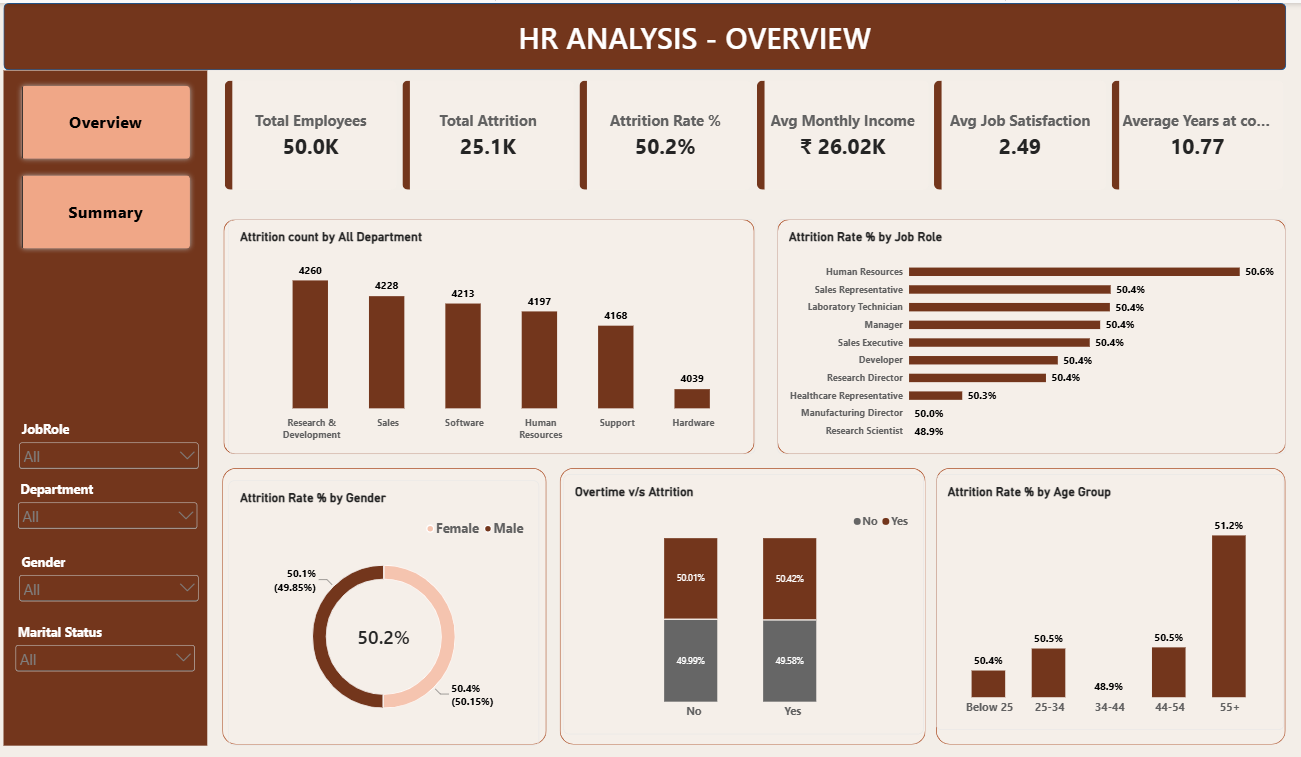

This screenshot's page, from the dashboard's own definition file:
{"tool":"powerbi","page":{"name":"Overview","canvas":[1920,1100],"ordinal":0},"visuals":[{"type":"cardVisual","fields":{"Data":["Table1.Total Employees","Table1.Total attrition","Table1.Attrition Rate %","Table2.Average Monthly income","Table1.Average job satisfaction","Table2.Average Years at company"]},"box":[347.2,113.2,1544.1,159.2],"z":0},{"type":"shape","box":[26,97.4,296.5,982.5],"z":1000},{"type":"shape","box":[24.9,0,1866.3,97.8],"z":2000},{"type":"textbox","box":[730.8,19.2,600.4,57.5],"z":3000},{"type":"shape","box":[346.3,313.8,772.6,341.9],"z":4000},{"type":"clusteredColumnChart","title":"Attrition count by All  Department","fields":{"Category":["Table1.Department"],"Y":["Table1.Total attrition"]},"box":[352.8,313.8,766.1,341.9],"z":5000},{"type":"shape","box":[1151.3,313.8,740.1,341.9],"z":6000},{"type":"clusteredBarChart","title":"Attrition Rate % by Job Role","fields":{"Category":["Table1.JobRole"],"Y":["Table1.Attrition Rate %"]},"box":[1151.3,313.8,740.1,341.9],"z":7000},{"type":"shape","box":[344.1,677.4,471.8,402.5],"z":8000},{"type":"donutChart","fields":{"Category":["Table1.Gender"],"Y":["Table1.Attrition Rate %"]},"box":[352.8,694.7,452.3,385.2],"z":9000},{"type":"shape","box":[835.4,677.4,532.4,402.5],"z":10000},{"type":"hundredPercentStackedColumnChart","title":"Overtime v/s Attrition","fields":{"Category":["Table2.OverTime"],"Series":["Table1.Attrition"],"Y":["CountNonNull(Table1.EmployeeCount)"]},"box":[839.7,686,523.7,378.7],"z":11000},{"type":"shape","box":[1382.9,677.4,508.6,402.5],"z":12000},{"type":"clusteredColumnChart","fields":{"Category":["Table1.Age Group"],"Y":["Table1.Attrition Rate %"]},"box":[1382.9,686,506.4,372.2],"z":13000},{"type":"slicer","fields":{"Values":["Table1.Department"]},"box":[41.1,694.7,270.5,77.9],"z":14000},{"type":"slicer","fields":{"Values":["Table1.Gender"]},"box":[43.3,800.7,270.5,77.9],"z":15000},{"type":"slicer","fields":{"Values":["Table1.MaritalStatus"]},"box":[39,902.4,270.5,77.9],"z":16000},{"type":"pageNavigator","box":[43.3,112.5,261.9,253.2],"z":17000},{"type":"slicer","fields":{"Values":["Table1.JobRole"]},"box":[43.7,607.5,270.5,77.9],"z":17001}]}

Visuals, with their boxes in screenshot pixels (x1, y1, x2, y2), scaled from the page's 1920x1100 canvas onto the 1301x757 screenshot:
cardVisual - Table1.Total Employees x Table1.Total attrition: select_region(235, 78, 1282, 187)
shape: select_region(18, 67, 219, 743)
shape: select_region(17, 0, 1281, 67)
textbox: select_region(495, 13, 902, 53)
shape: select_region(235, 216, 758, 451)
"Attrition count by All  Department" clusteredColumnChart: select_region(239, 216, 758, 451)
shape: select_region(780, 216, 1282, 451)
"Attrition Rate % by Job Role" clusteredBarChart: select_region(780, 216, 1282, 451)
shape: select_region(233, 466, 553, 743)
donutChart - Table1.Gender x Table1.Attrition Rate %: select_region(239, 478, 546, 743)
shape: select_region(566, 466, 927, 743)
"Overtime v/s Attrition" hundredPercentStackedColumnChart: select_region(569, 472, 924, 733)
shape: select_region(937, 466, 1282, 743)
clusteredColumnChart - Table1.Age Group x Table1.Attrition Rate %: select_region(937, 472, 1280, 728)
slicer - Table1.Department: select_region(28, 478, 211, 532)
slicer - Table1.Gender: select_region(29, 551, 213, 605)
slicer - Table1.MaritalStatus: select_region(26, 621, 210, 675)
pageNavigator: select_region(29, 77, 207, 252)
slicer - Table1.JobRole: select_region(30, 418, 213, 472)
